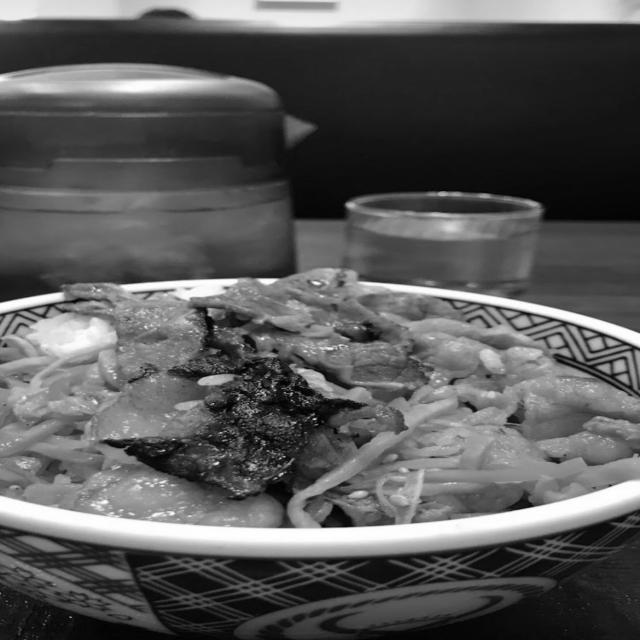overcooked beef,: (68, 350, 415, 513)
